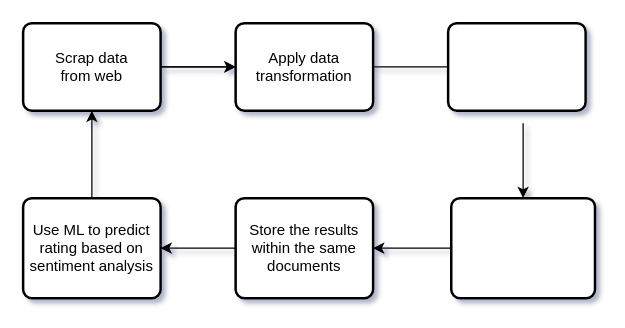
The diagram is 625 pixels wide and 328 high, and some of its shapes have lost their labels. The shapes that lost their labels are listed below. From the top down, each one's centre as x and y in pixels, then its label:
At pixel 516 66: "Store data in MongoDB clusters".
At pixel 522 247: "Retrieve stored data and perform sentiment analysis".
